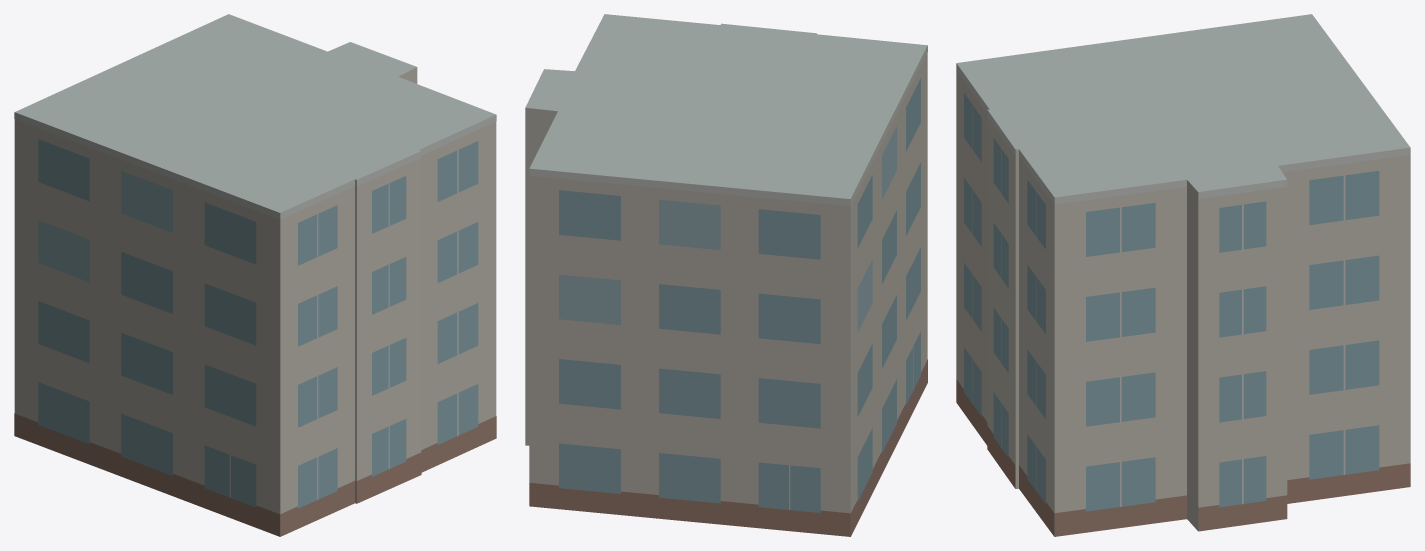
File: survey-upis-32926628.glb
The picture shows the model from 3 angles, left to right: view 1: azimuth 30°, elevation 25°; view 2: azimuth 150°, elevation 25°; view 3: azimuth 270°, elevation 25°; orthographic projection. The views are drawn at different scales.
Parts seen in each view (by area): view 1: survey-upis-32926628.tmp; view 2: survey-upis-32926628.tmp; view 3: survey-upis-32926628.tmp.
Part boxes in pixels (x1,y1,x2,y2): survey-upis-32926628.tmp: (14,14,496,536); survey-upis-32926628.tmp: (525,14,927,536); survey-upis-32926628.tmp: (956,14,1410,536).
Size of the model in its own units: 13.46 by 11.6 by 14.08.
